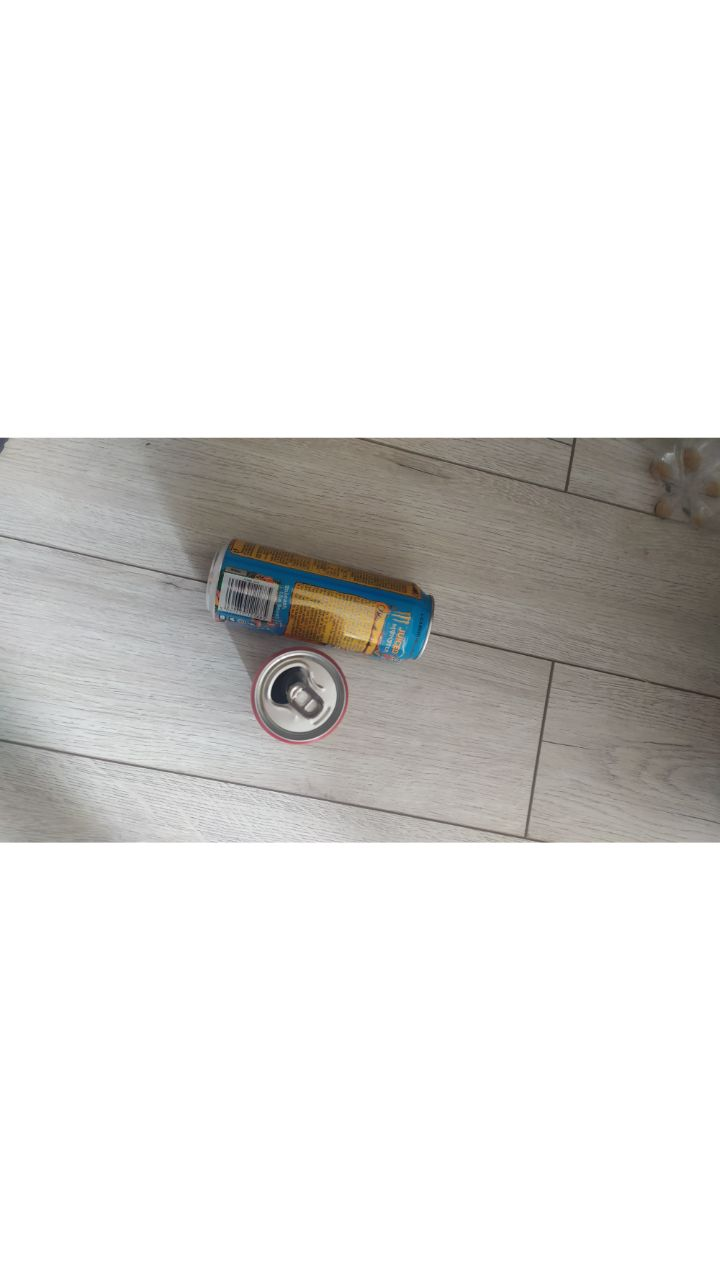Can: (200, 533, 437, 667), (244, 651, 351, 741)
